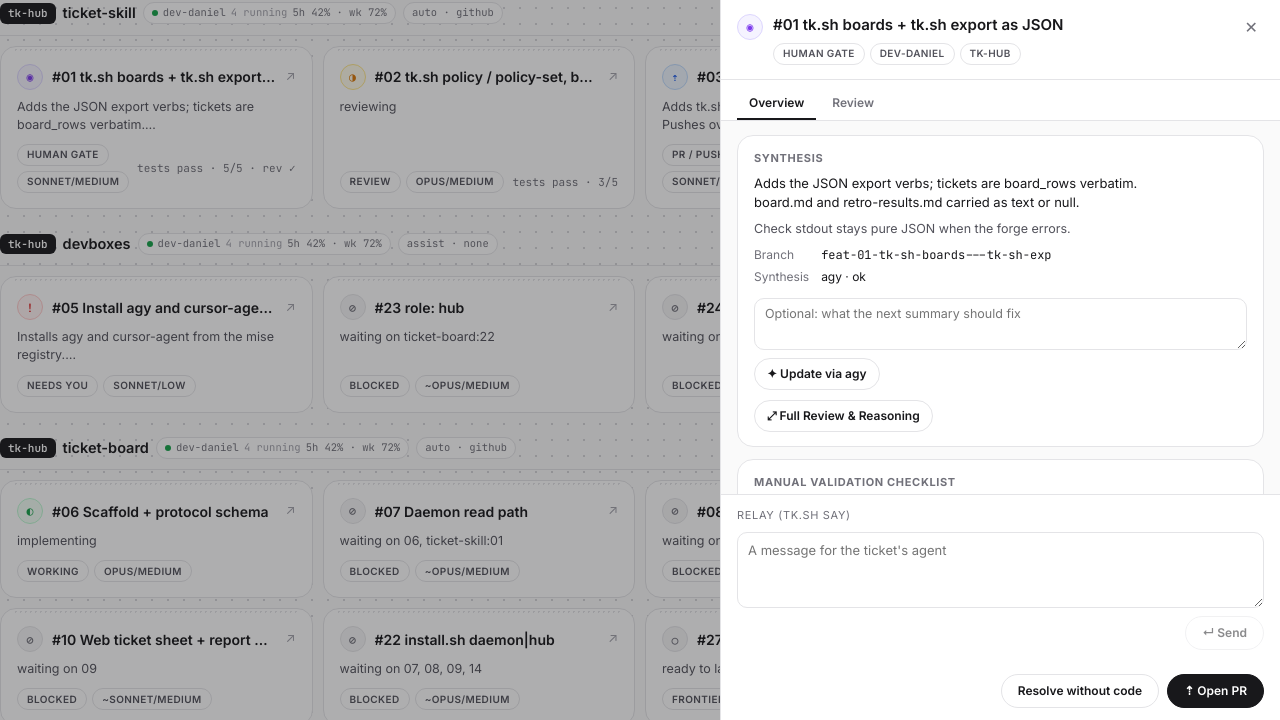
TicketSheet › has a Review tab on a ticket with a worktree, loading the diff only when it is opened
Expected: the element "Synthesis" is shown, left=737, top=134, right=1264, bottom=447
Click the tab "Review" at point(853, 104), box left=820, top=88, right=886, bottom=120
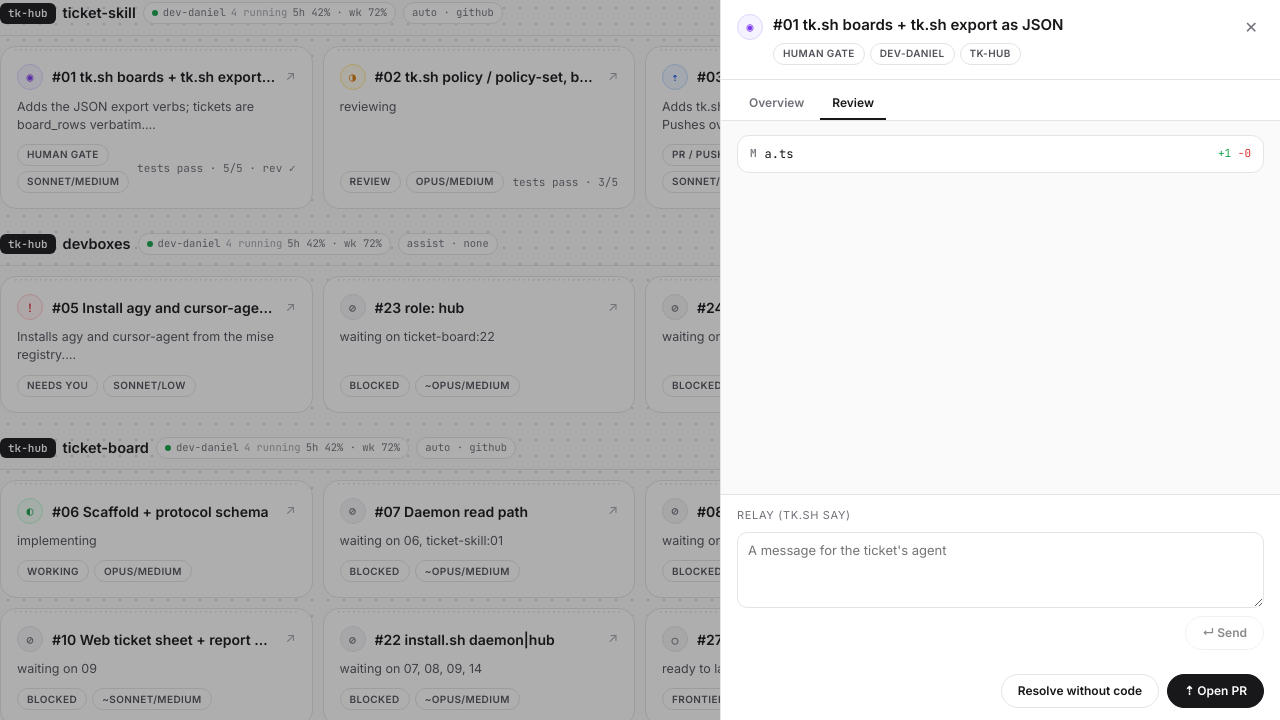
Expected: the button "M a.ts +1 -0" is shown, left=738, top=136, right=1263, bottom=172
Expected: the heading "Synthesis" is gone
Click the tab "Overview" at point(777, 104), box left=737, top=88, right=816, bottom=120
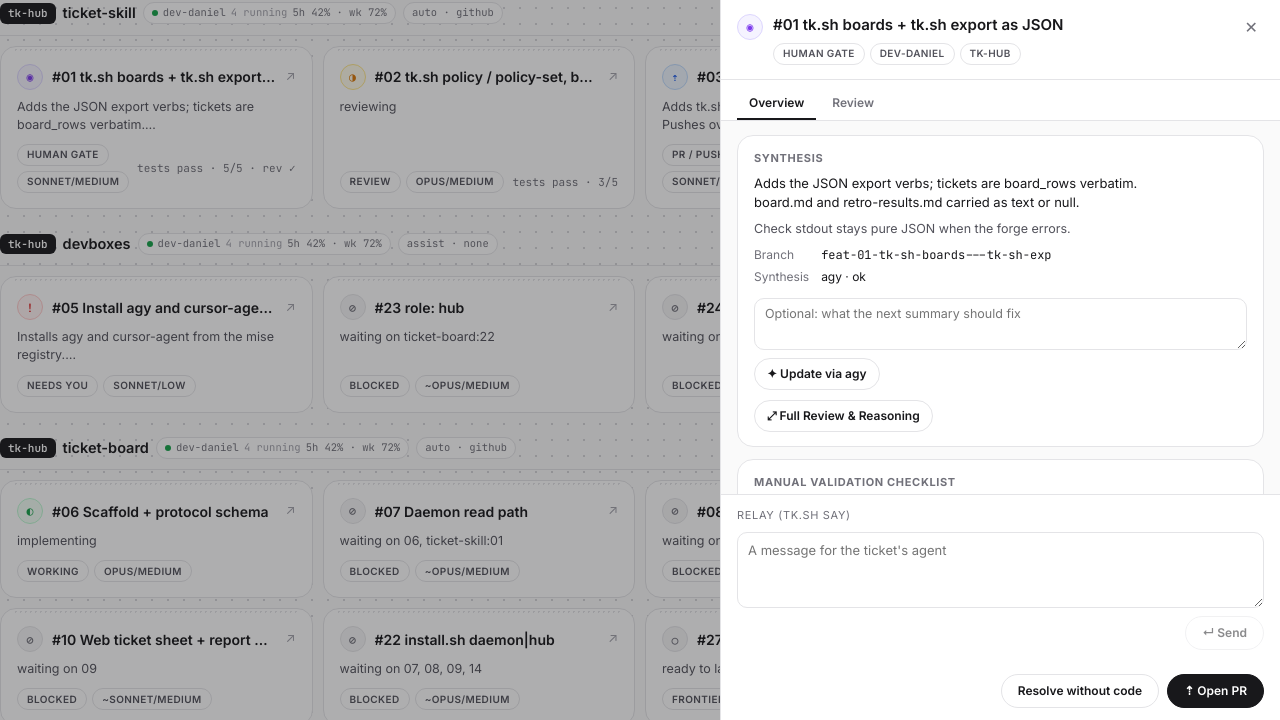
Expected: the element "Synthesis" is shown, left=737, top=134, right=1264, bottom=447
